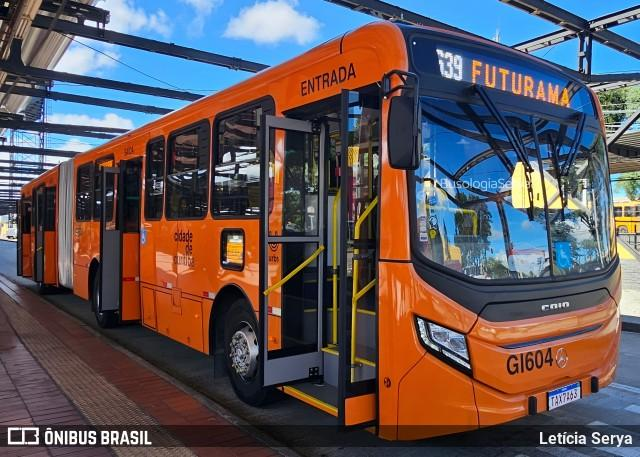FUTURAMA: (467, 54, 576, 113)
